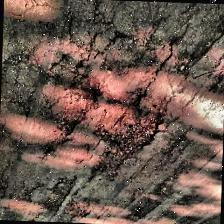pothole: (48, 70, 166, 162)
